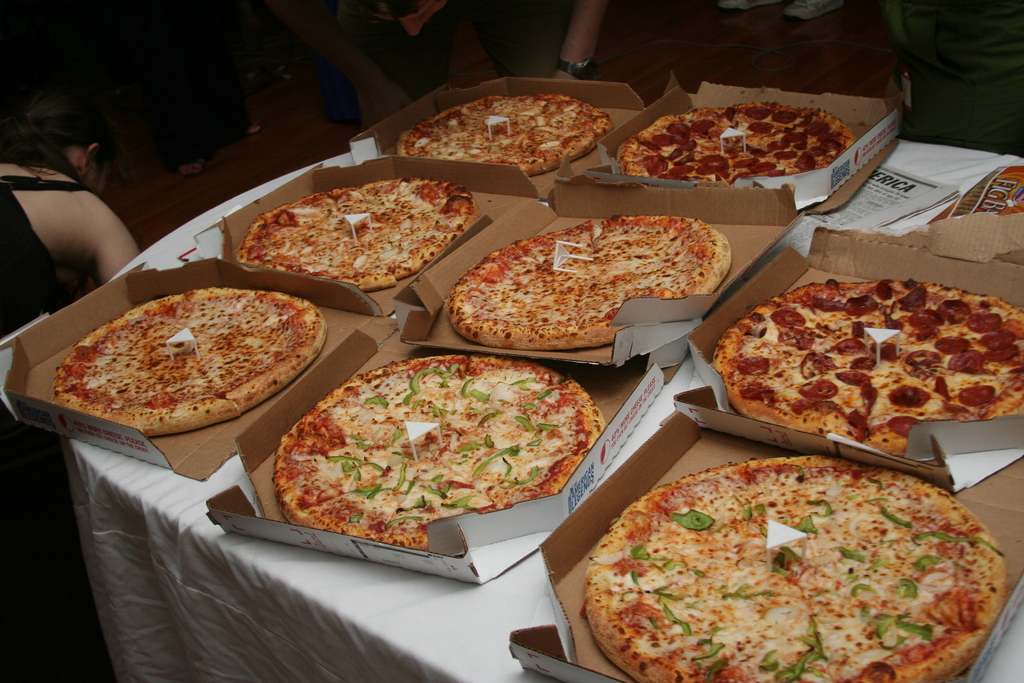Pizza: (593, 464, 1006, 681), (266, 350, 602, 547), (711, 269, 1023, 450), (47, 296, 321, 451), (450, 207, 739, 350), (238, 180, 474, 290), (606, 89, 853, 189), (391, 92, 622, 183)
